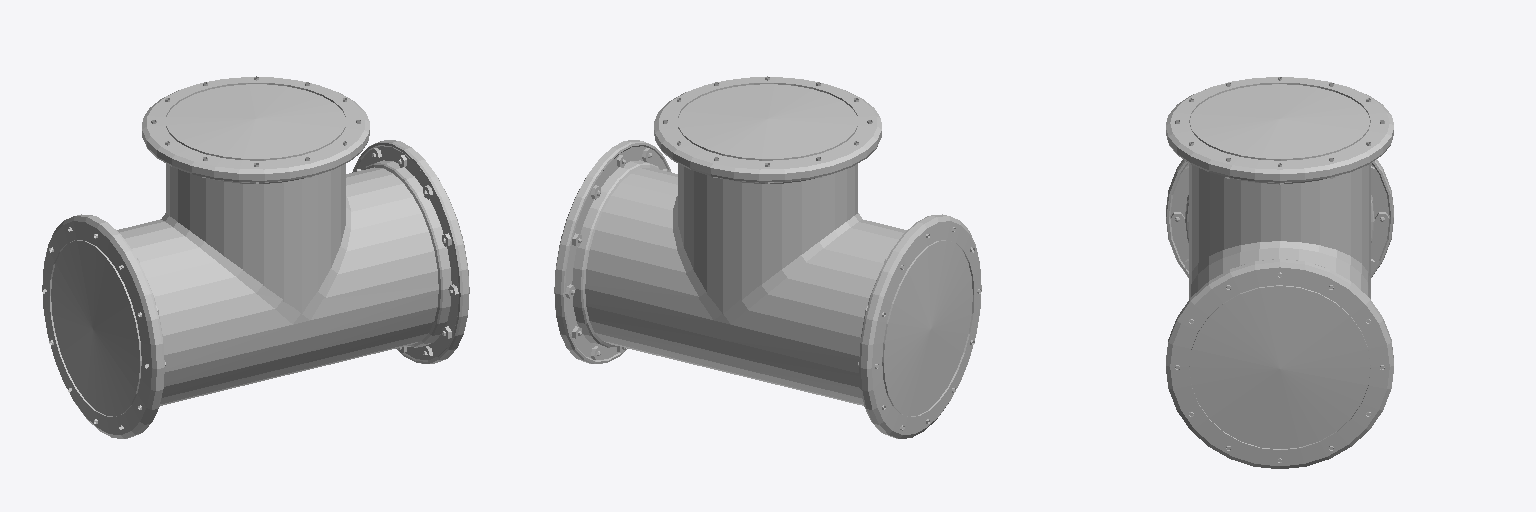
File: pipe_tee.obj
3 views of the same model, side by side, from view 1: azimuth 30°, elevation 25°; view 2: azimuth 150°, elevation 25°; view 3: azimuth 270°, elevation 25° (orthographic).
Visible parts, largest first — view 1: ind_pipe_large_01_crossing_02_inst_001_Mesh.004; view 2: ind_pipe_large_01_crossing_02_inst_001_Mesh.004; view 3: ind_pipe_large_01_crossing_02_inst_001_Mesh.004.
Part boxes in pixels (left/top/right/bottom): ind_pipe_large_01_crossing_02_inst_001_Mesh.004: left=42, top=76, right=469, bottom=438; ind_pipe_large_01_crossing_02_inst_001_Mesh.004: left=554, top=76, right=981, bottom=438; ind_pipe_large_01_crossing_02_inst_001_Mesh.004: left=1166, top=77, right=1393, bottom=468.
Size of the model in its own units: 1.01 by 0.8136 by 0.6153.